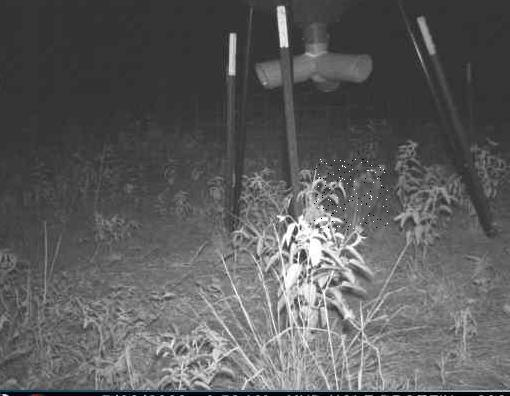Raccoon: (314, 160, 388, 231)
